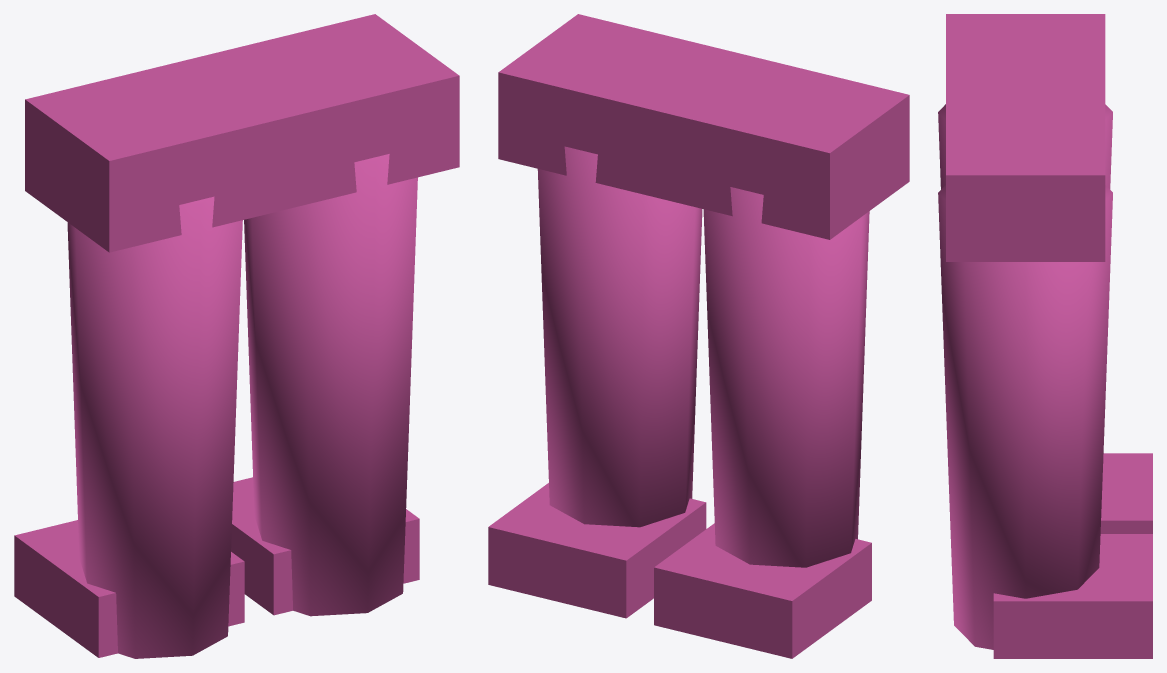
Rendered from orchidite_greaves.glb.
3 renders of one model, left to right at view 1: azimuth 30°, elevation 25°; view 2: azimuth 150°, elevation 25°; view 3: azimuth 270°, elevation 25°, orthographic. The views are drawn at different scales.
Visible parts, largest first — view 1: orchidite_greaves_v0; view 2: orchidite_greaves_v0; view 3: orchidite_greaves_v0.
Boxes of the visible parts, bbox=[...] form: orchidite_greaves_v0: bbox=[14, 14, 459, 658]; orchidite_greaves_v0: bbox=[488, 14, 909, 658]; orchidite_greaves_v0: bbox=[938, 14, 1152, 658].
Bounding box in the file's own units: 0.24 × 0.34 × 0.135.
